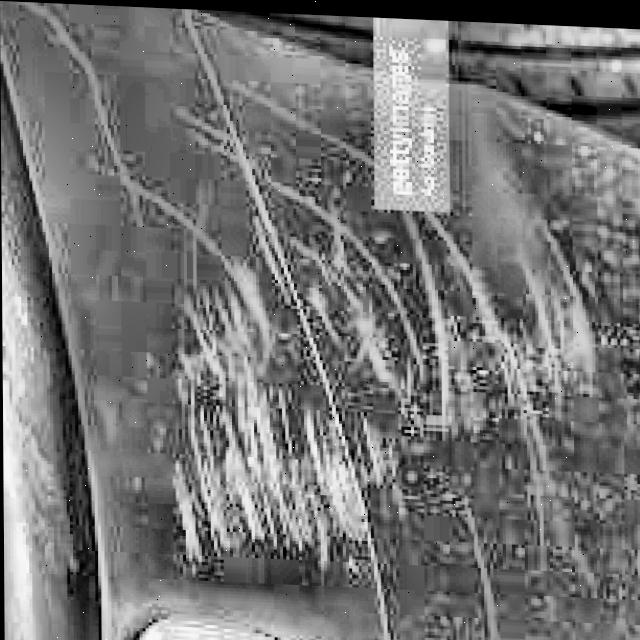bumper_scratch: (182, 213, 583, 581), (1, 132, 70, 577)
